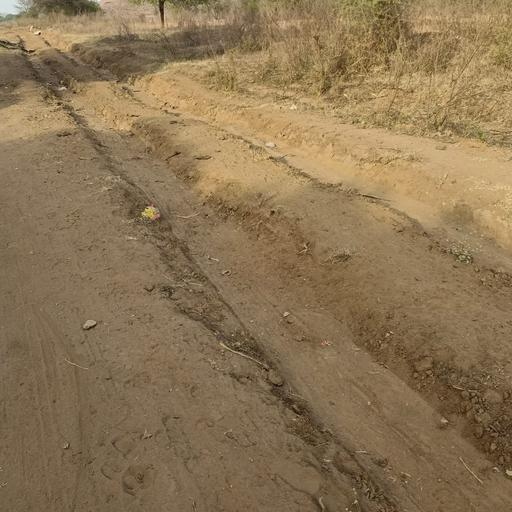vehicle_track: (25, 56, 512, 512), (117, 78, 512, 276)
